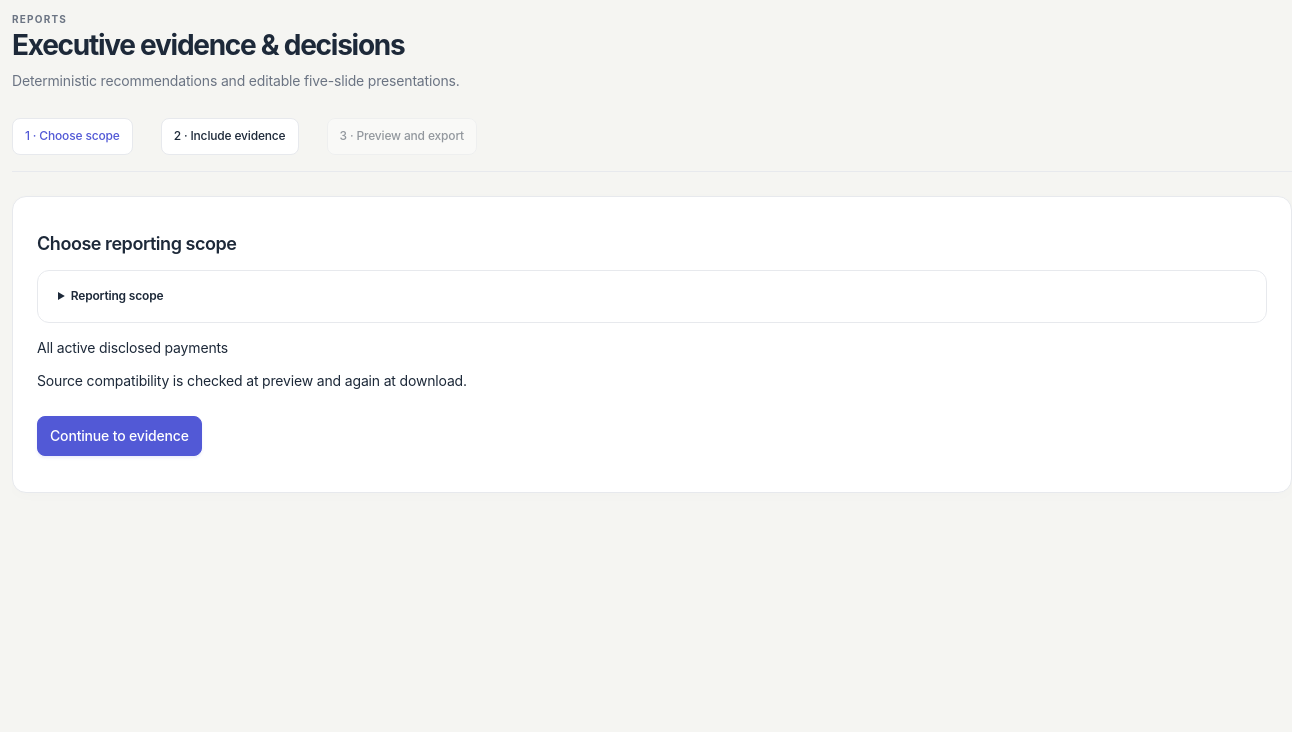
Test case: Analytical and reporting workspaces › requires report preview before enabling artifact download and shows recoverable API errors
Click the button "Continue to evidence" at coordinates (119, 436), box [37,416,202,456]
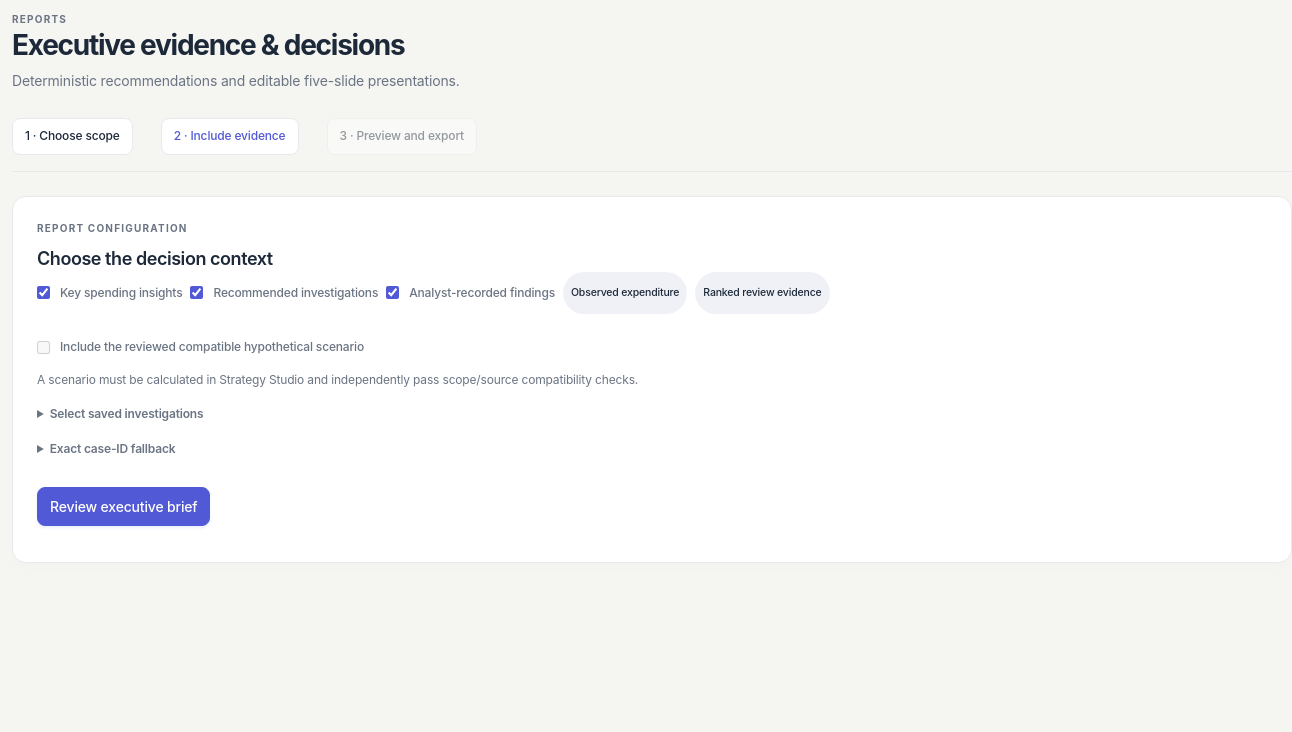
Click the button "Review executive brief" at coordinates (124, 506), box [37,487,210,526]
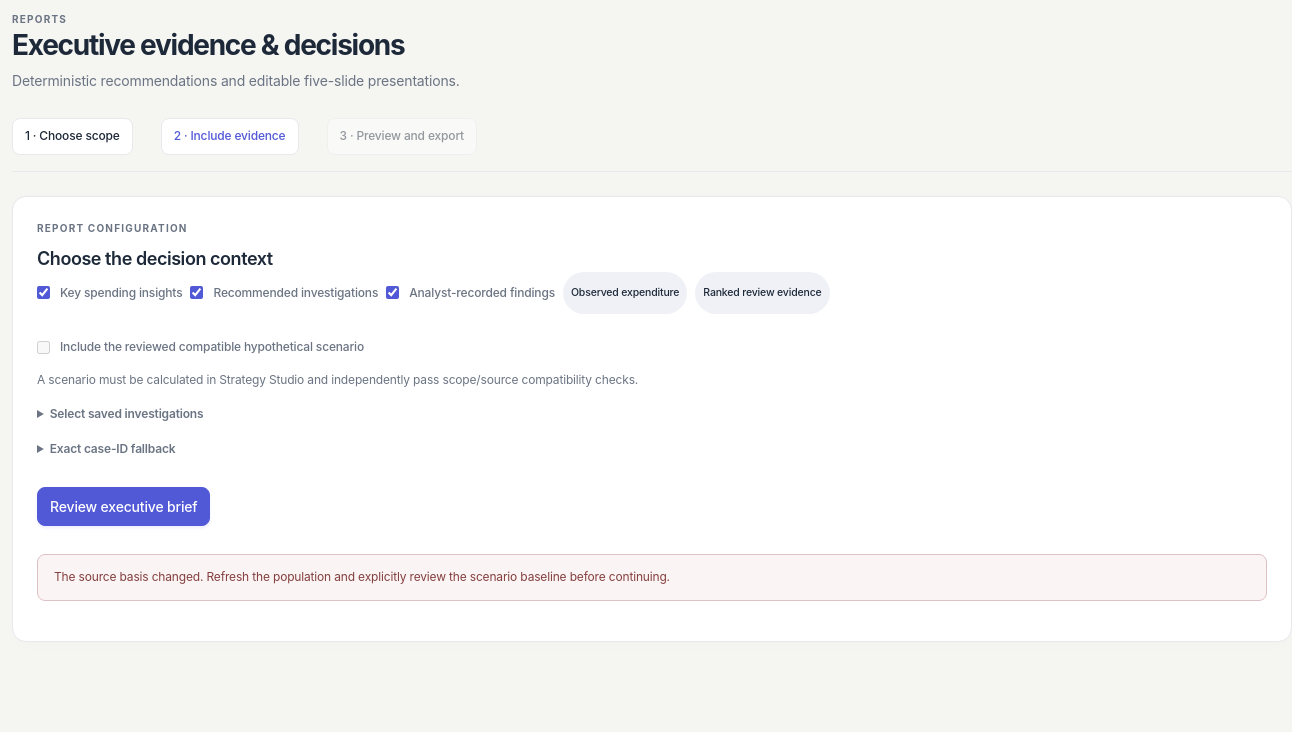
Expected: the message is shown, [37,554,1267,601]
